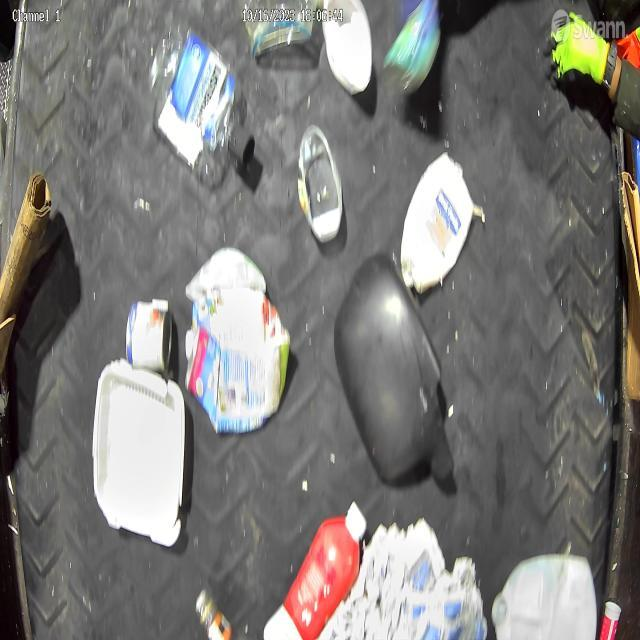can: (126, 297, 172, 368)
milk_jug: (492, 549, 597, 640)
